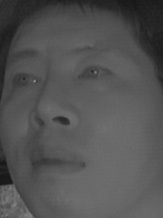eye: (77, 62, 117, 85), (8, 69, 42, 91)
mouth: (27, 144, 85, 181)
